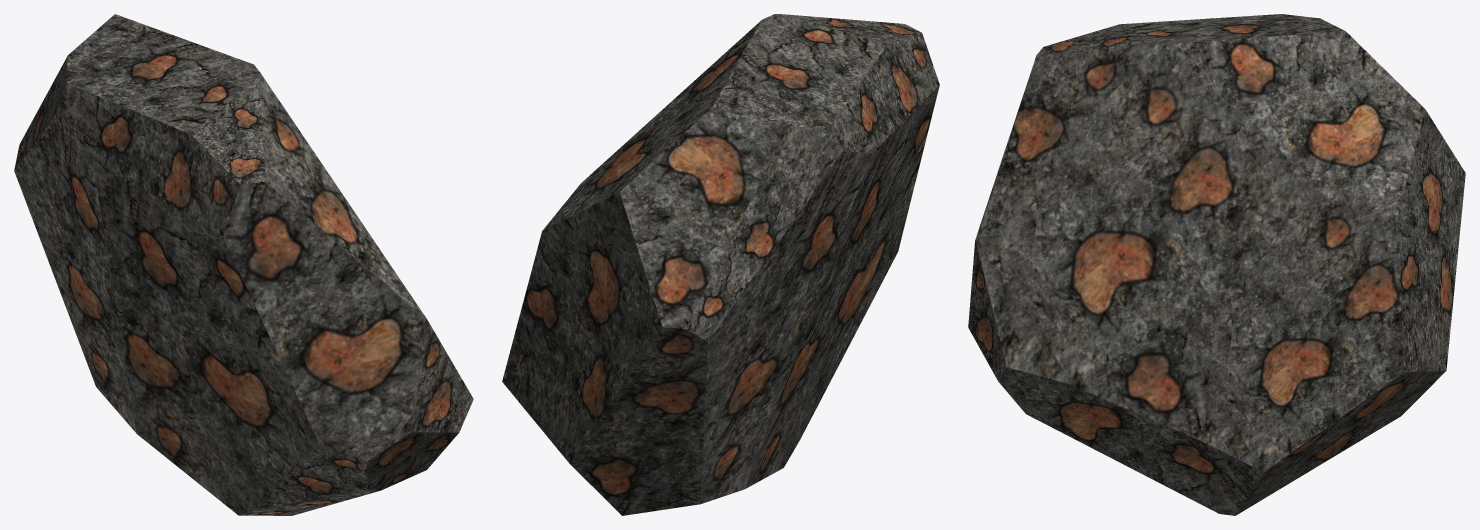
File: iron_ore_7.fbx
The picture shows the model from 3 angles, left to right: view 1: azimuth 30°, elevation 25°; view 2: azimuth 150°, elevation 25°; view 3: azimuth 270°, elevation 25°; orthographic projection. The views are drawn at different scales.
Parts seen in each view (by area): view 1: Rock_Type2_02_mesh.001; view 2: Rock_Type2_02_mesh.001; view 3: Rock_Type2_02_mesh.001.
Boxes of the visible parts, x1=… form: Rock_Type2_02_mesh.001: x1=14, y1=14, x2=473, y2=515; Rock_Type2_02_mesh.001: x1=502, y1=14, x2=939, y2=515; Rock_Type2_02_mesh.001: x1=968, y1=14, x2=1465, y2=515.
Bounding box in the file's own units: 0.842 × 1.26 × 1.33.
